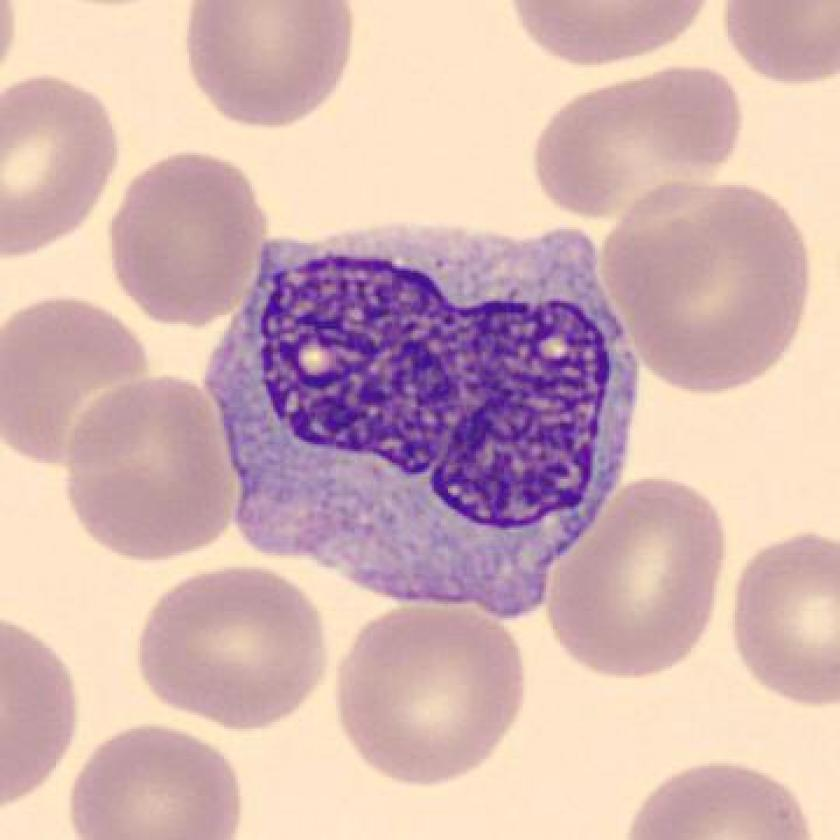monocyte: (192, 195, 659, 649)
